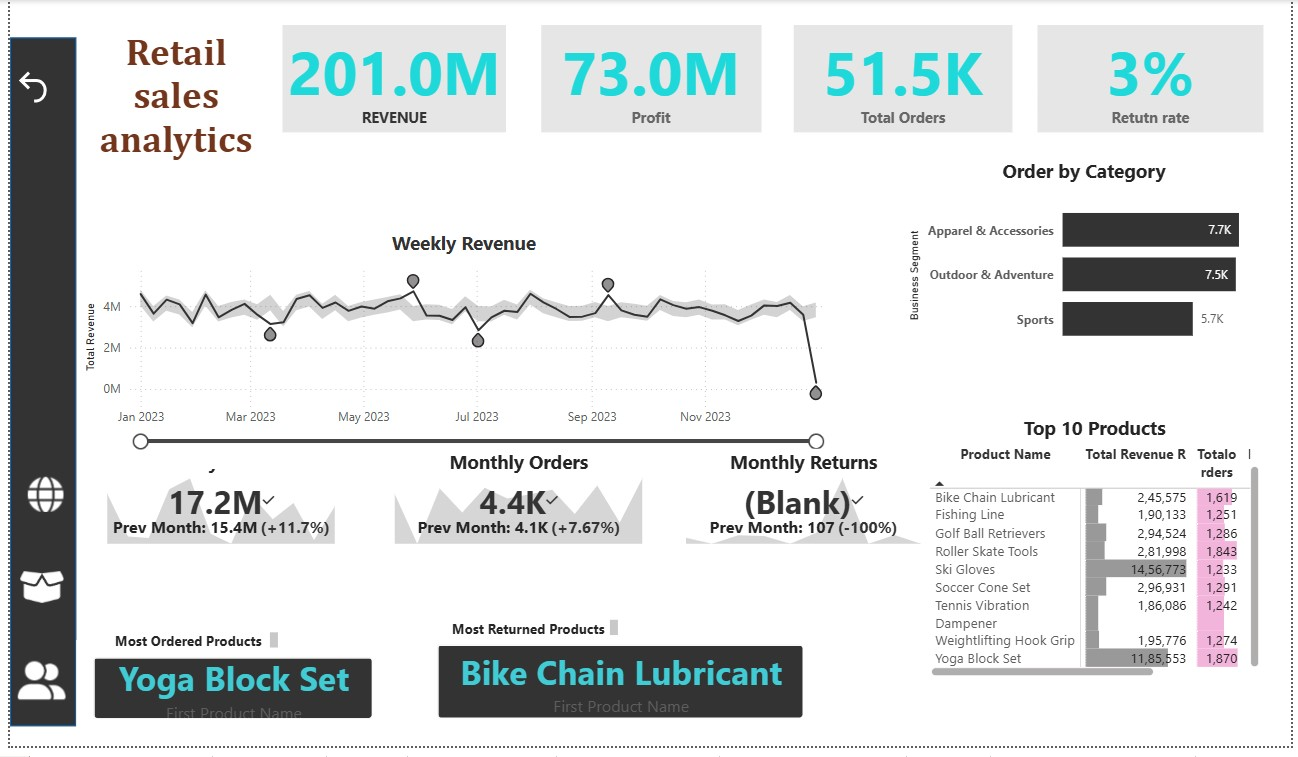

Layout of this report page (visuals, bound fields, positions):
{"tool":"powerbi","page":{"name":"Excutive dashboard","canvas":[1280,720],"ordinal":0},"visuals":[{"type":"card","fields":{"Values":["Measures Table.Total Revenue R"]},"box":[272.1,0,223.4,107.4],"z":0},{"type":"actionButton","box":[8.2,352.9,57.1,50],"z":1000},{"type":"shape","box":[0,12.5,66.2,687.8],"z":2000},{"type":"actionButton","box":[13.7,443.1,43.7,51.2],"z":3000},{"type":"kpi","title":"Monthly Revenue","fields":{"Goal":["Measures Table.Previous Month Revenue"],"Indicator":["Measures Table.Total Revenue R"],"TrendLine":["Calendar.Start of Month"]},"box":[92.9,422.9,237.1,100],"z":4000},{"type":"actionButton","box":[6.8,535.2,60,51.4],"z":5000},{"type":"card","fields":{"Values":["Measures Table.Totalorders"]},"box":[782.7,0,218.4,107.4],"z":6000},{"type":"actionButton","box":[3.9,627.1,65.7,55.7],"z":7000},{"type":"lineChart","title":"Weekly Revenue","fields":{"Category":["Calendar.Start of Week"],"Y":["Measures Table.Total Revenue"]},"box":[69.9,204.7,766.4,238.4],"z":8000},{"type":"kpi","title":"Monthly Orders","fields":{"Goal":["Measures Table.Previous Month Orders"],"Indicator":["Measures Table.Totalorders"],"TrendLine":["Calendar.Start of Month"]},"box":[380,422.9,257.1,100],"z":9000},{"type":"card","fields":{"Values":["Measures Table.Profit"]},"box":[530.5,0,219.7,107.4],"z":10000},{"type":"kpi","title":"Monthly Returns","fields":{"Goal":["Measures Table.Previous Month Returns"],"Indicator":["Measures Table.Total returns"],"TrendLine":["Calendar.Start of Month"]},"box":[670,422.9,244.3,100],"z":11000},{"type":"pivotTable","title":"Top 10 Products","fields":{"Rows":["3. Products.Product Name"],"Values":["Measures Table.Total Revenue R","Measures Table.Totalorders","Measures Table.Retutn rate"]},"box":[914.3,390,338.6,265.7],"z":12000},{"type":"card","fields":{"Values":["Measures Table.Retutn rate"]},"box":[1026.1,0,225.9,107.4],"z":13000},{"type":"clusteredBarChart","title":"Order by Category","fields":{"Category":["7. Segment.Business Segment"],"Y":["Measures Table.Totalorders"]},"box":[892.9,132.9,360,202.9],"z":14000},{"type":"cardVisual","fields":{"Data":["Min(3. Products.Product Name)"]},"box":[66.2,613.8,313.8,96.2],"z":15000},{"type":"textbox","box":[92.5,601.2,180,25],"z":16000},{"type":"cardVisual","fields":{"Data":["Min(3. Products.Product Name)"]},"box":[410,601.2,400,108.8],"z":17000},{"type":"textbox","box":[432.5,588.8,180,25],"z":18000},{"type":"actionButton","box":[2.5,41.2,54.9,41.2],"z":19000},{"type":"textbox","box":[69.9,0,192.2,161],"z":19002}]}

Visuals, with their boxes on the page's 1280x720 design canvas (x1, y1, x2, y2). These are canvas units, not pixel positions in the 1298x757 screenshot, which may show the page scaled, cropped or inside an application window:
card - Measures Table.Total Revenue R: 272,0,496,107
actionButton: 8,353,65,403
shape: 0,12,66,700
actionButton: 14,443,57,494
"Monthly Revenue" kpi: 93,423,330,523
actionButton: 7,535,67,587
card - Measures Table.Totalorders: 783,0,1001,107
actionButton: 4,627,70,683
"Weekly Revenue" lineChart: 70,205,836,443
"Monthly Orders" kpi: 380,423,637,523
card - Measures Table.Profit: 530,0,750,107
"Monthly Returns" kpi: 670,423,914,523
"Top 10 Products" pivotTable: 914,390,1253,656
card - Measures Table.Retutn rate: 1026,0,1252,107
"Order by Category" clusteredBarChart: 893,133,1253,336
cardVisual - Min(3. Products.Product Name): 66,614,380,710
textbox: 92,601,272,626
cardVisual - Min(3. Products.Product Name): 410,601,810,710
textbox: 432,589,612,614
actionButton: 2,41,57,82
textbox: 70,0,262,161
